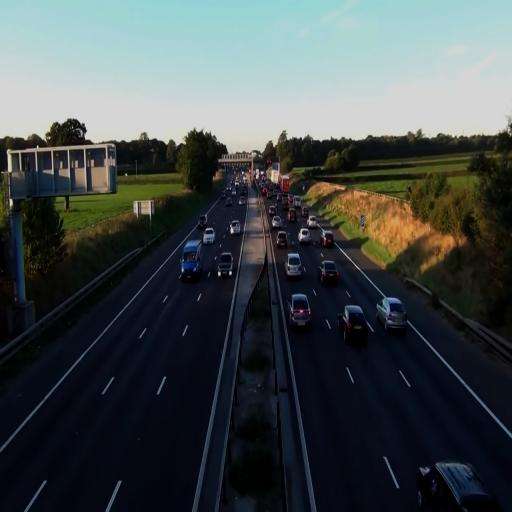vehicle: (416, 460, 500, 511), (376, 296, 408, 333), (342, 304, 368, 345), (180, 236, 203, 280), (289, 293, 312, 331), (384, 298, 408, 333), (320, 260, 339, 287), (285, 251, 303, 278), (216, 251, 233, 278), (298, 227, 310, 245), (203, 227, 215, 244), (229, 219, 241, 235)
